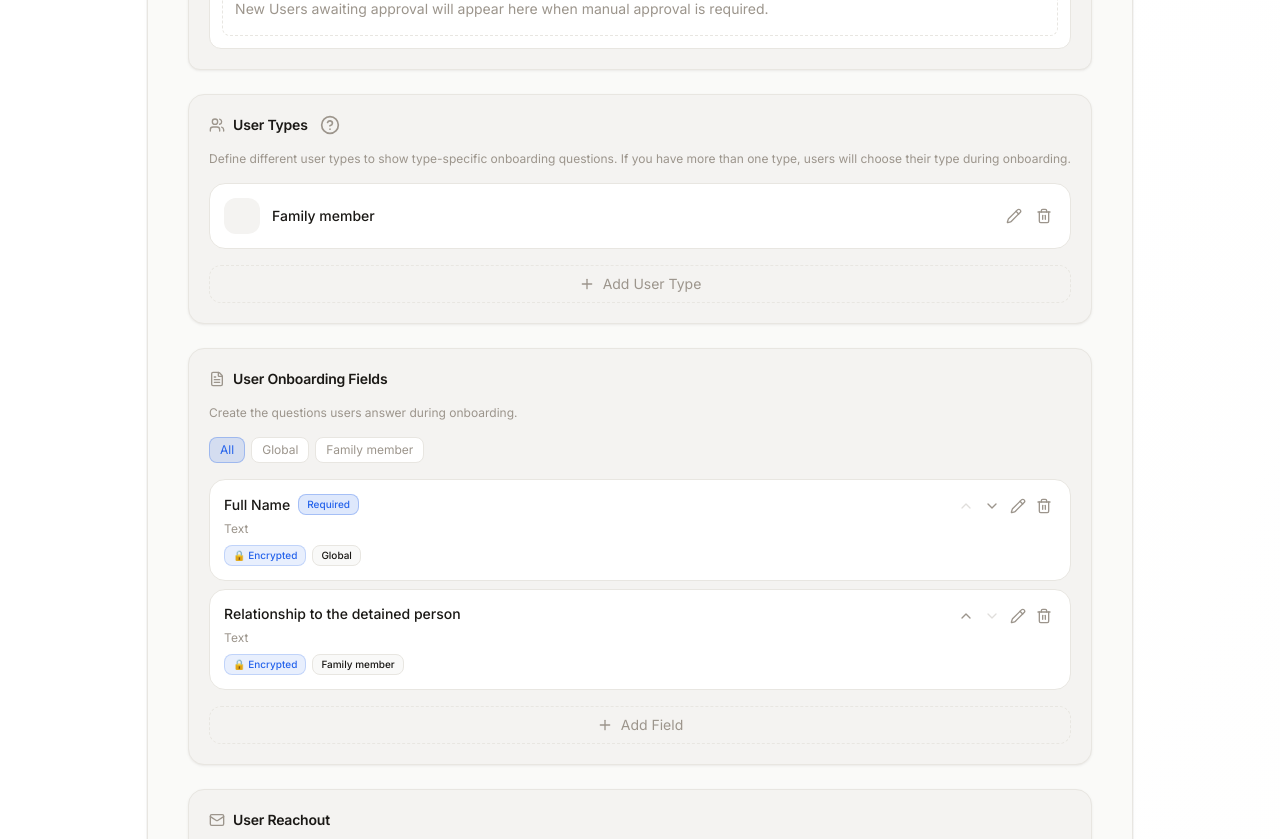
Test: AdminUserConfig › shows only global questions under the Global scope
(page scrolled)
Expected: the text "Full Name" is shown, x1=224 y1=494 x2=290 y2=514
Click the button "Global" at (280, 450), box x1=251 y1=437 x2=309 y2=463
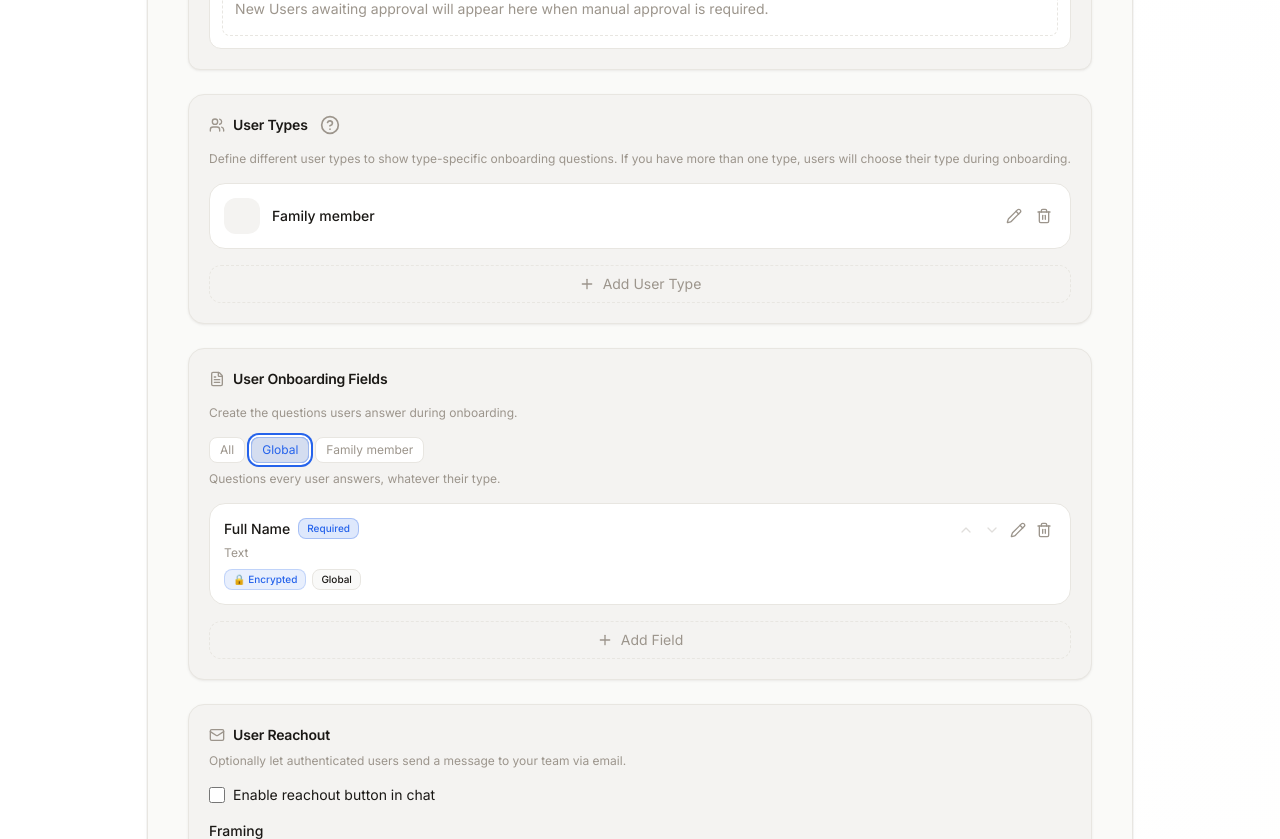
Expected: the text "Full Name" is shown, x1=224 y1=518 x2=290 y2=538
Expected: the text "Relationship to the detained person" is gone
Expected: the text "Questions every user answers, whatever their type." is shown, x1=209 y1=471 x2=500 y2=486
